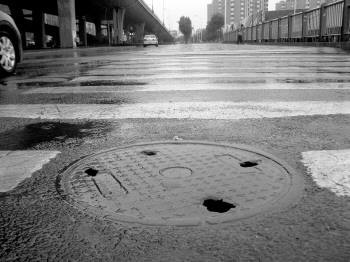well: (0, 134, 302, 243)
